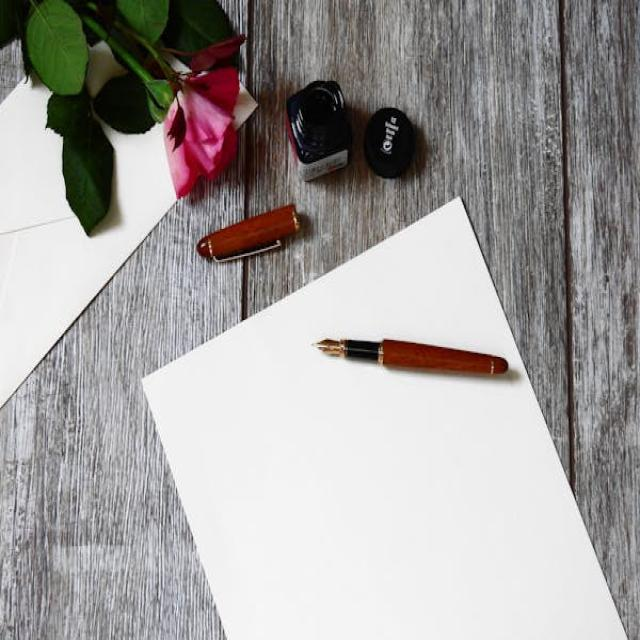pen: (308, 325, 523, 384)
